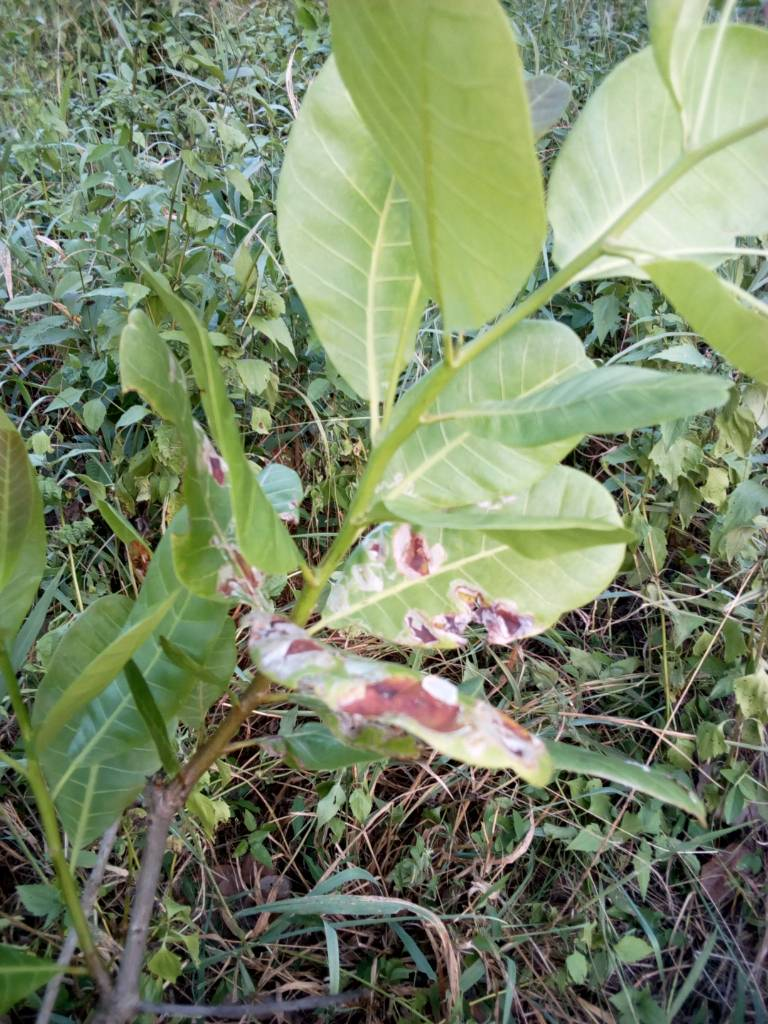Dysdercus wolkerii: (300, 467, 646, 691), (243, 608, 588, 808)
